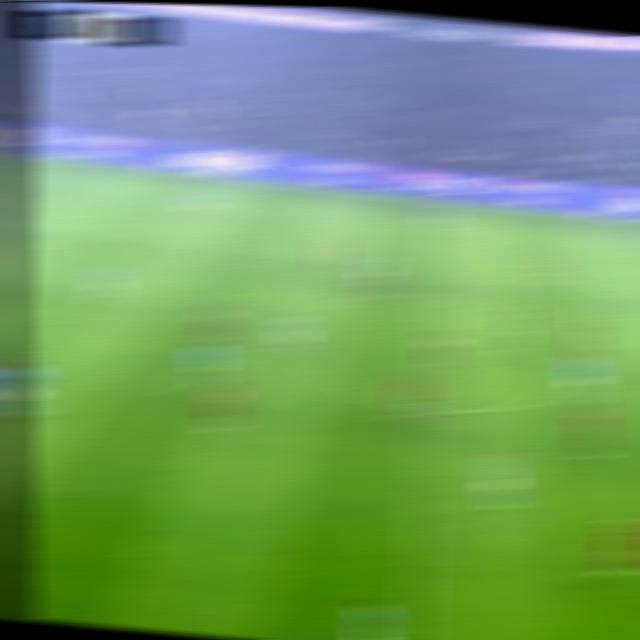bigarea_top_inner: (28, 194, 59, 215)
halfcircle_bottom: (406, 395, 442, 419)
halfcircle_top: (411, 282, 448, 309)
